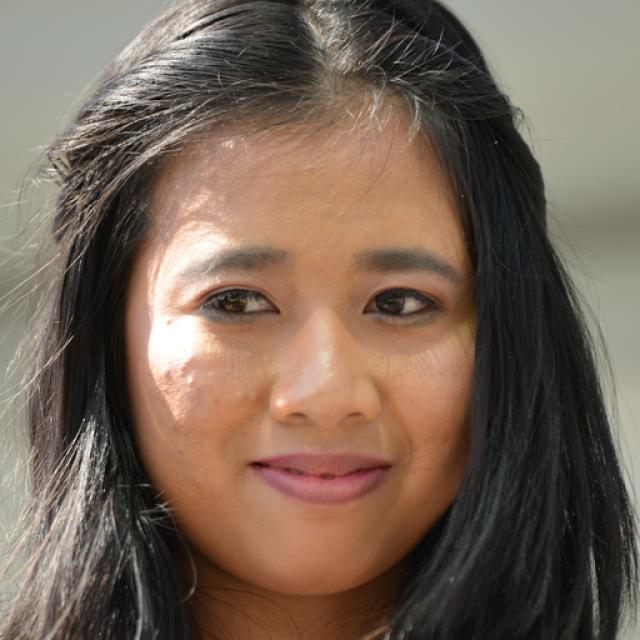Acne: (175, 354, 198, 376), (154, 361, 174, 384), (152, 315, 177, 333), (183, 374, 199, 386)
